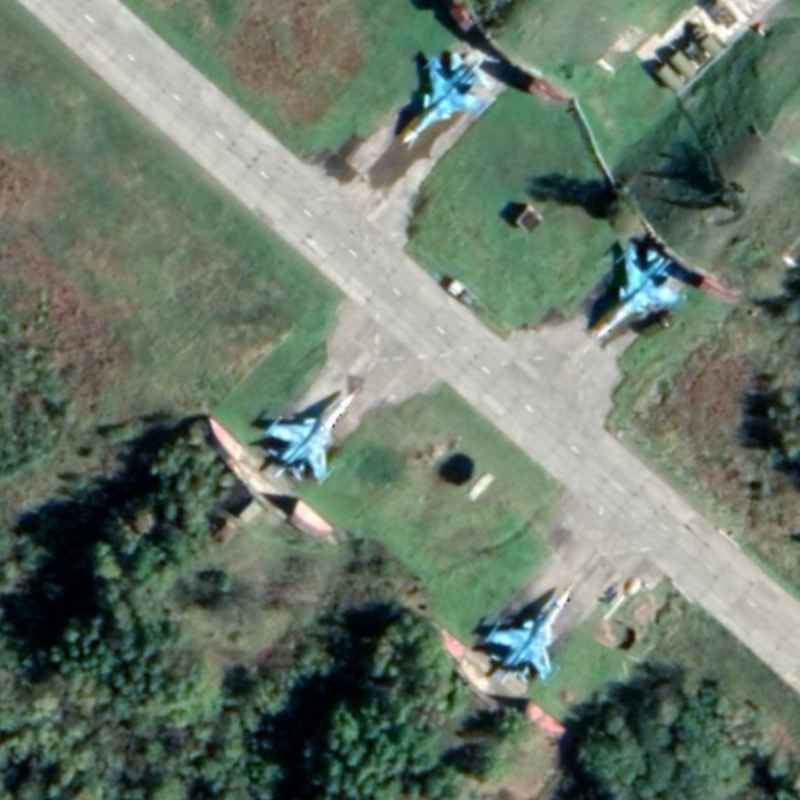A19: (401, 50, 500, 146), (595, 242, 690, 340), (482, 586, 571, 686), (264, 392, 356, 488)
